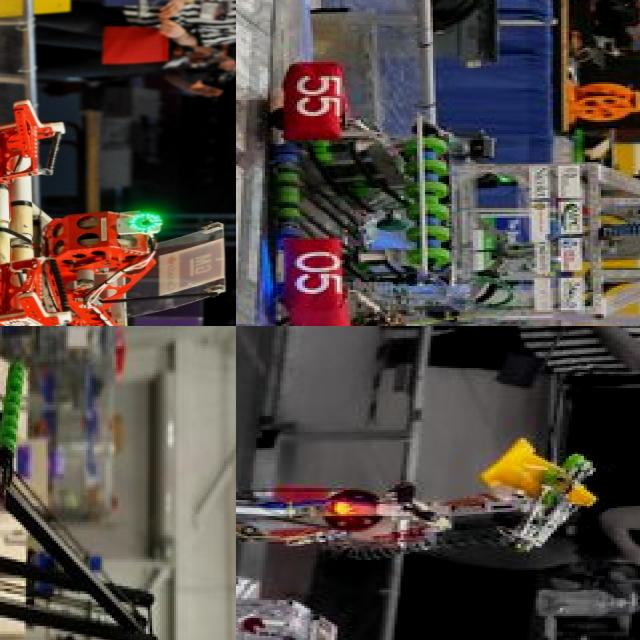FRC-Robots: (281, 61, 640, 326), (236, 404, 632, 640), (0, 79, 229, 326), (0, 326, 179, 640)
